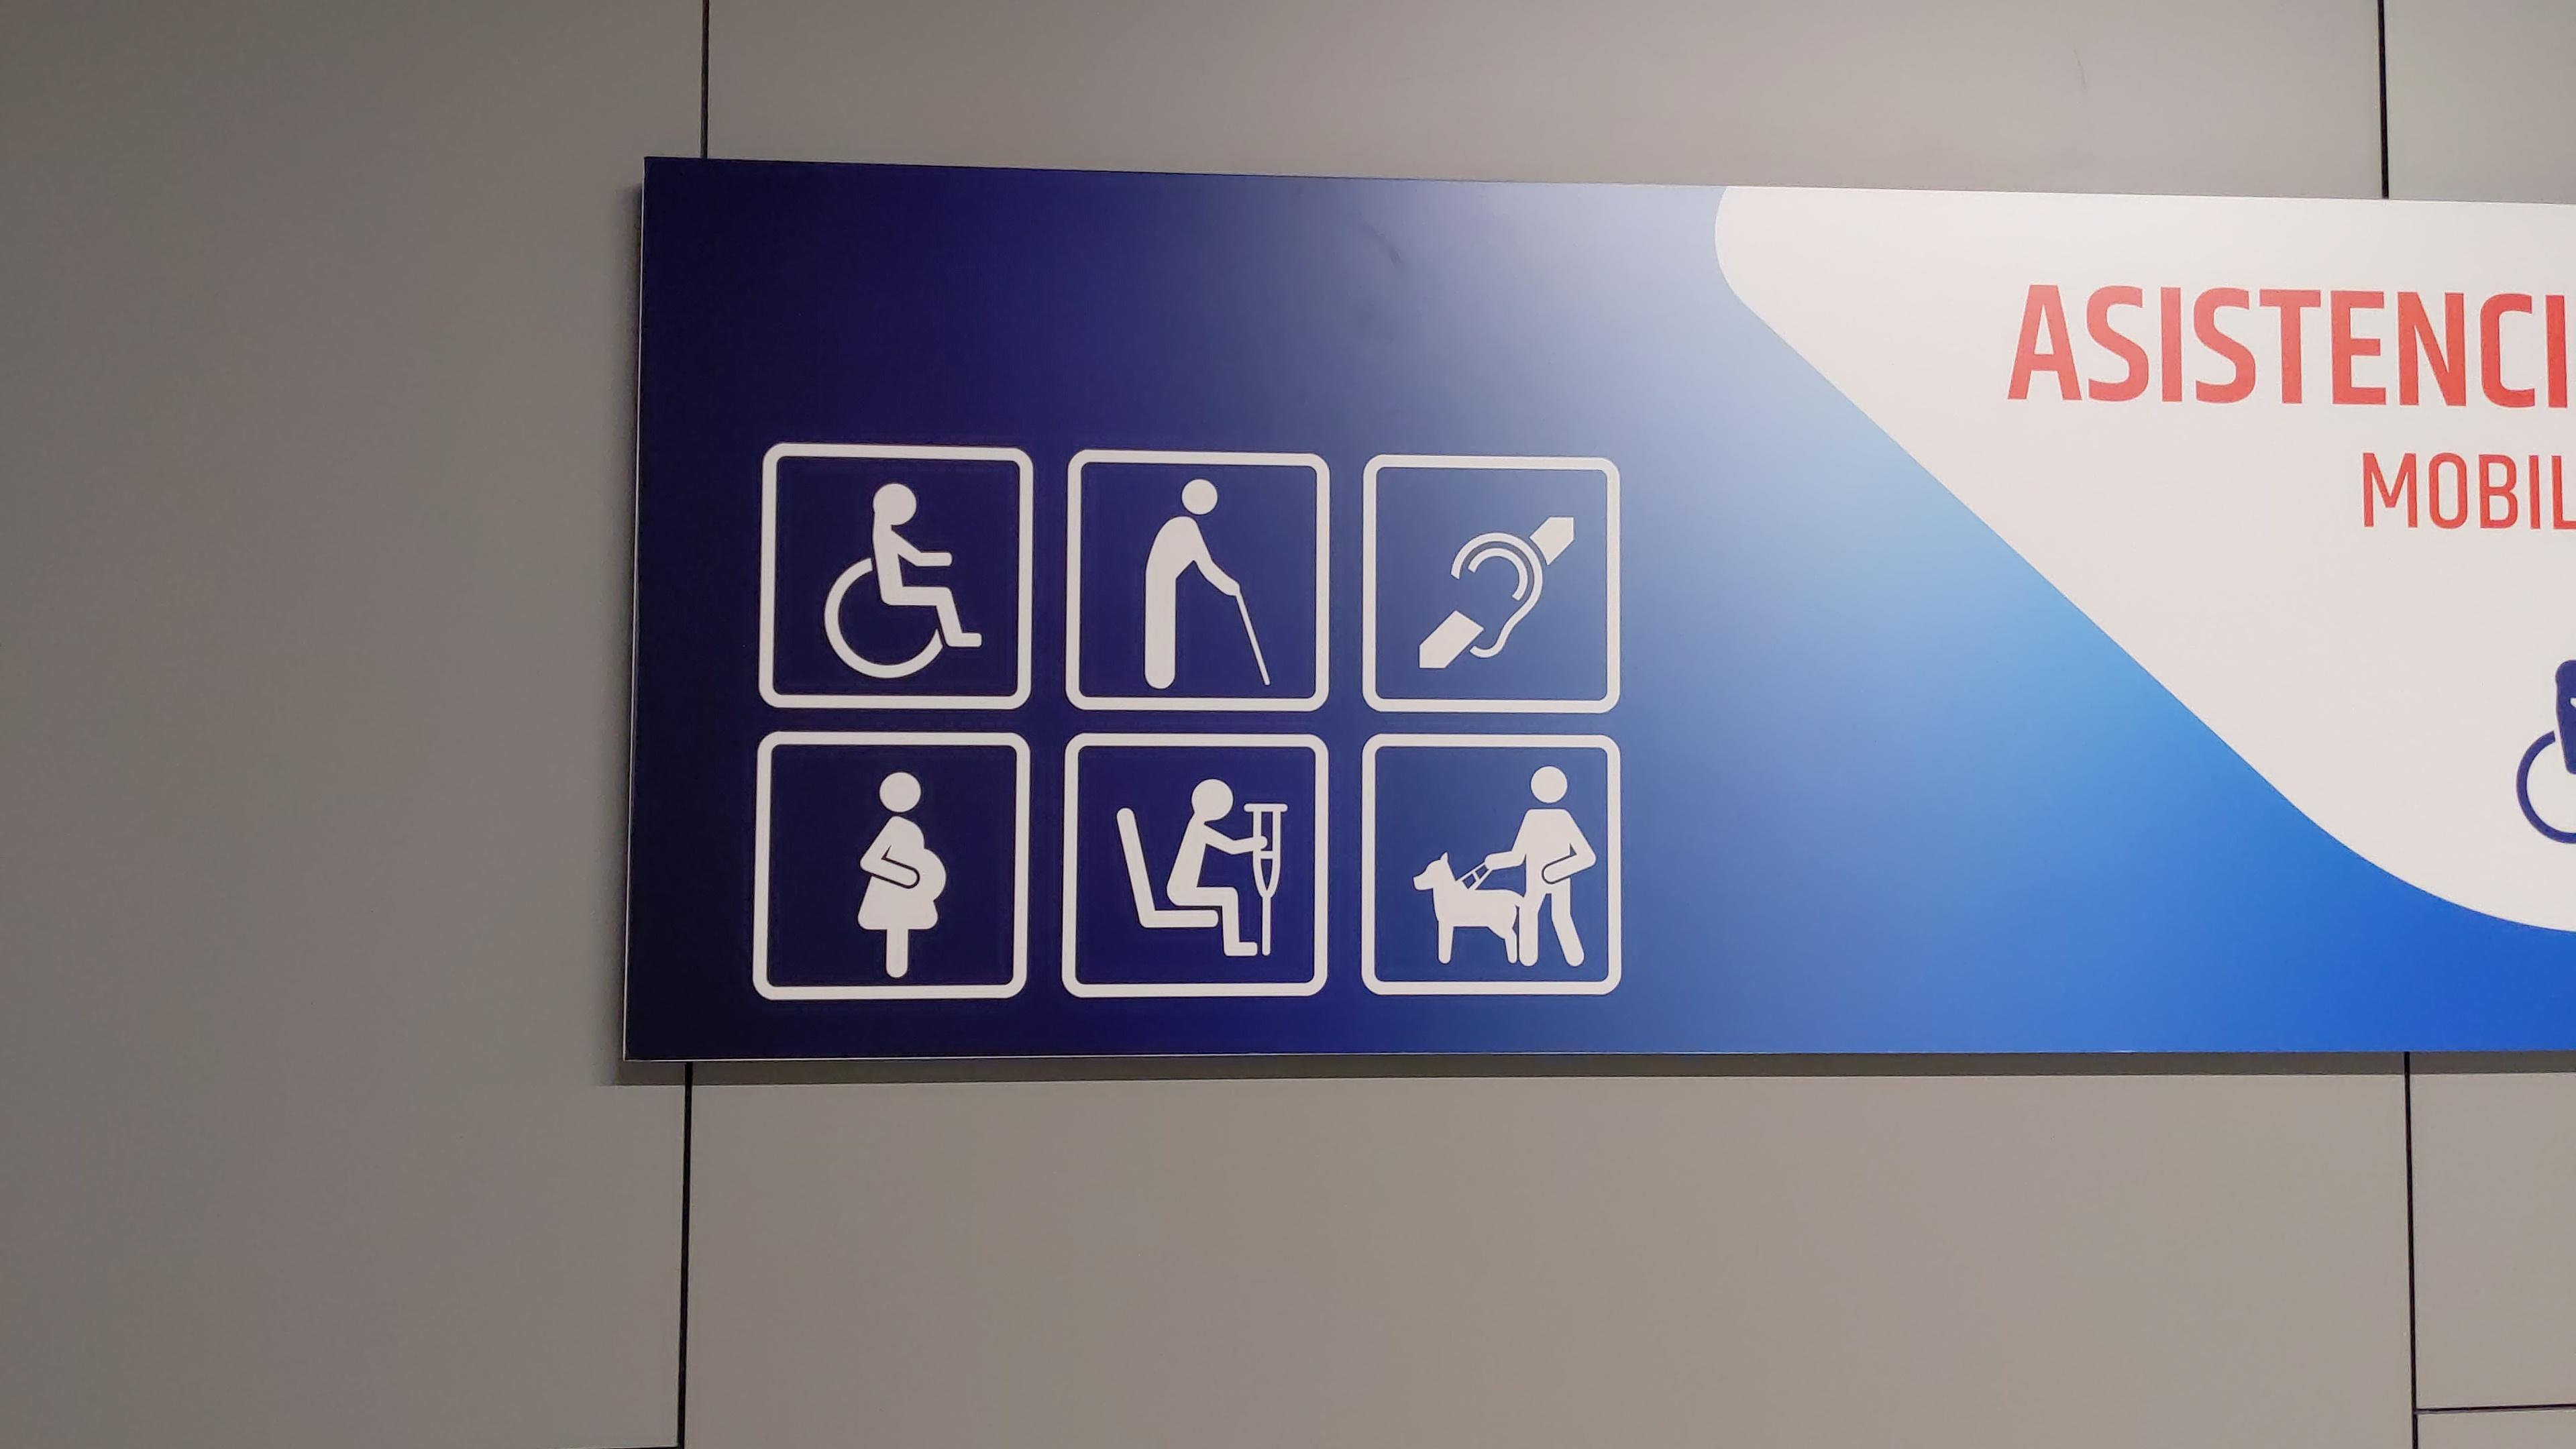handicapped symbol: (816, 481, 987, 681)
